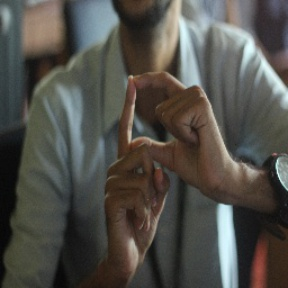D: (111, 65, 208, 185)
